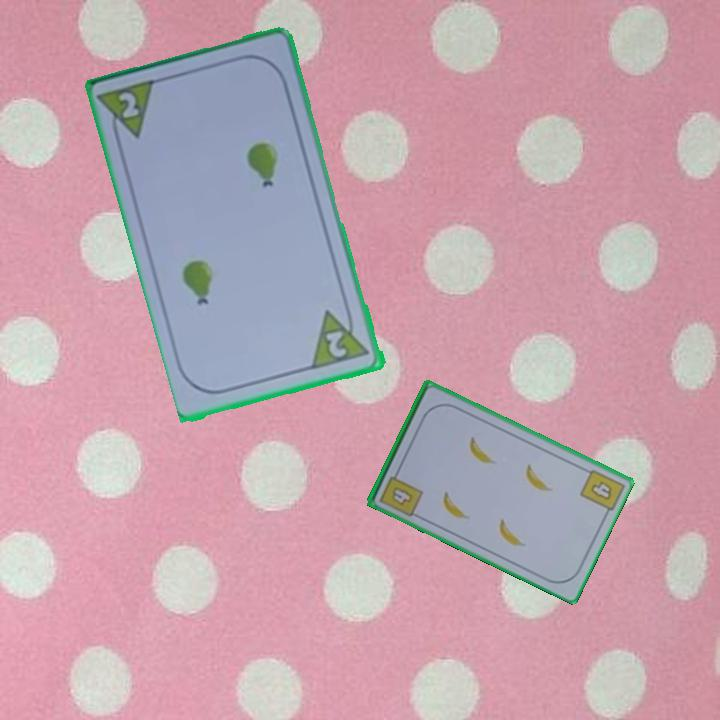2p: (97, 75, 161, 148), (309, 302, 374, 373)
4b: (376, 465, 425, 520), (587, 477, 616, 503)
